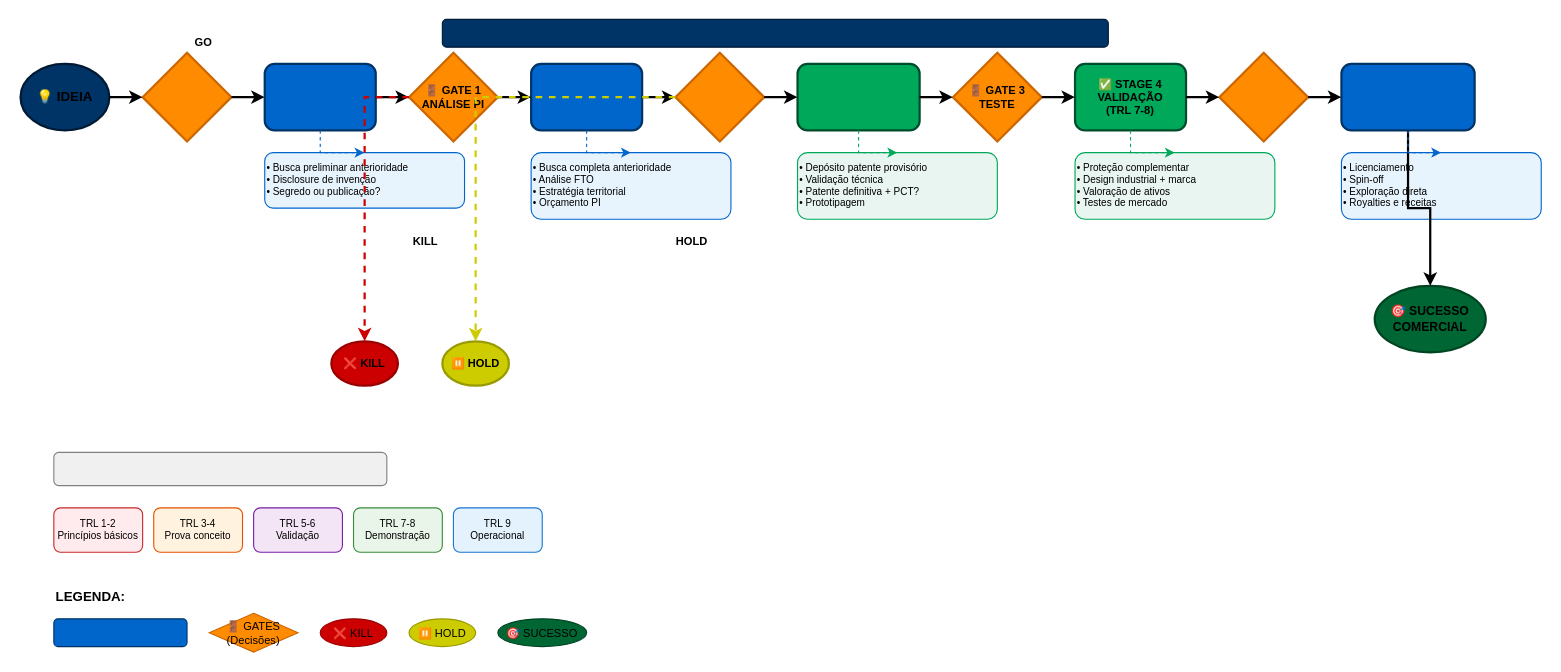
This 1561x672 diagram has some shape labels left out. The shapes that lost their labels are listed below. From the top down, each one's centre as x and y in pixels, then its label:
At (x=774, y=32): "MODELO STAGE-GATE COMPLETO COM INTEGRAÇÃO DE PI".
At (x=186, y=96): "🚪 GATE 0 TRIAGEM".
At (x=319, y=96): "📋 STAGE 1 ESCOPO (TRL 1-2)".
At (x=586, y=96): "💼 STAGE 2 BUSINESS CASE (TRL 3-4)".
At (x=719, y=96): "🚪 GATE 2 VIABILIDADE".
At (x=858, y=96): "🔧 STAGE 3 DESENVOLVIMENTO (TRL 5-6)".
At (x=1263, y=96): "🚪 GATE 4 LANÇAMENTO".
At (x=1407, y=96): "🚀 STAGE 5 COMERCIALIZAÇÃO (TRL 9)".
At (x=220, y=468): "TECHNOLOGY READINESS LEVEL (TRL)".
At (x=120, y=632): "🔷 STAGES (Estágios)".
